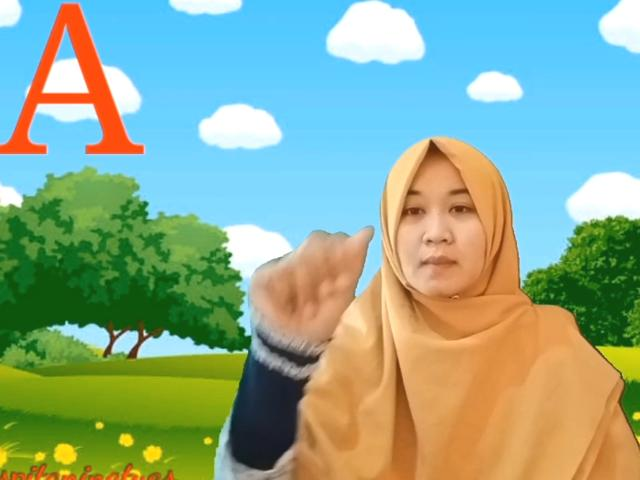A: (249, 224, 381, 348)
